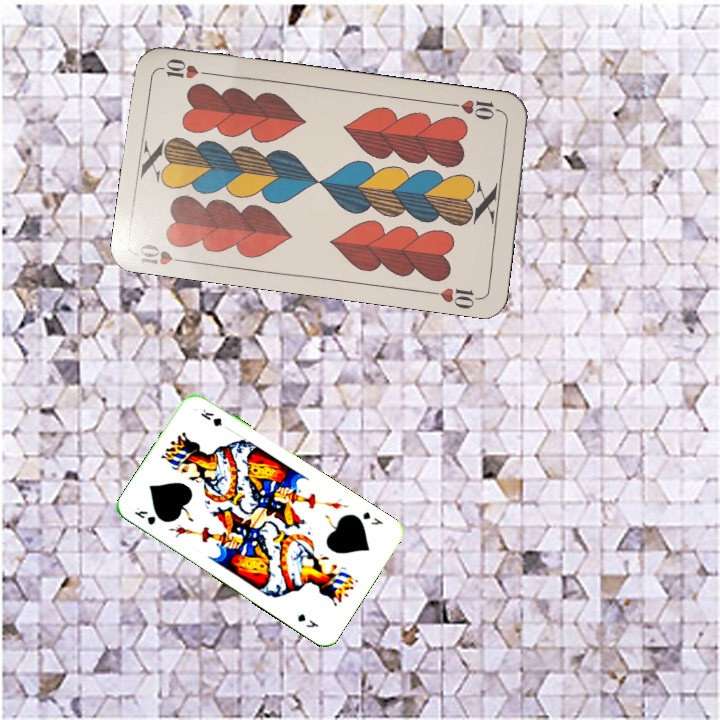GK: (130, 503, 158, 528), (359, 507, 386, 528)
H10: (446, 95, 506, 123), (136, 239, 193, 268)
